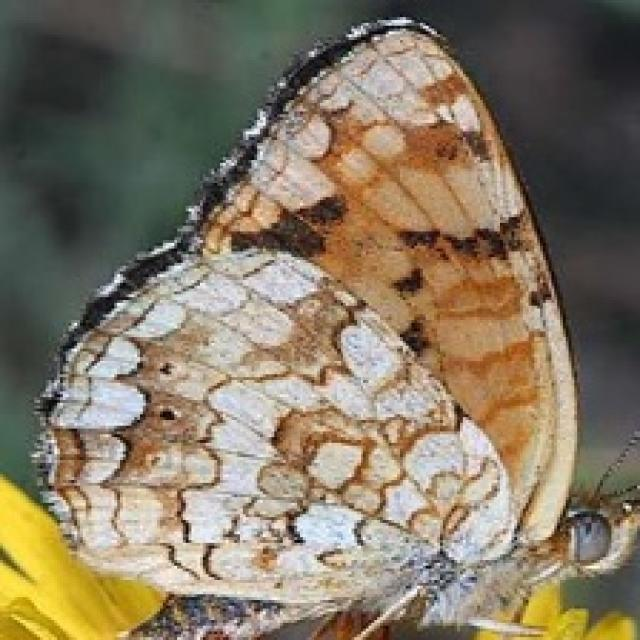butterfly: (26, 12, 637, 637)
